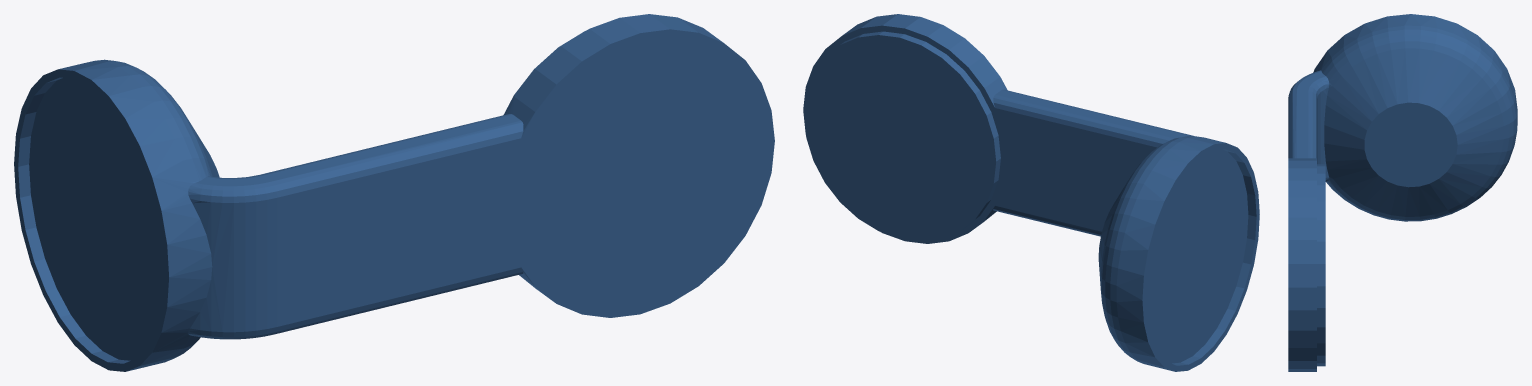
The model's file is forearm_roll_link.dae.
3 renders of one model, left to right at view 1: azimuth 30°, elevation 25°; view 2: azimuth 150°, elevation 25°; view 3: azimuth 270°, elevation 25°, orthographic. The views are drawn at different scales.
Visible parts, largest first — view 1: forearm_roll_link; view 2: forearm_roll_link; view 3: forearm_roll_link.
Part boxes in pixels (<box>): forearm_roll_link: <box>14,14,774,371</box>; forearm_roll_link: <box>803,14,1259,371</box>; forearm_roll_link: <box>1288,14,1517,371</box>.
Size of the model in its own units: 0.1636 by 0.0795 by 0.074.
